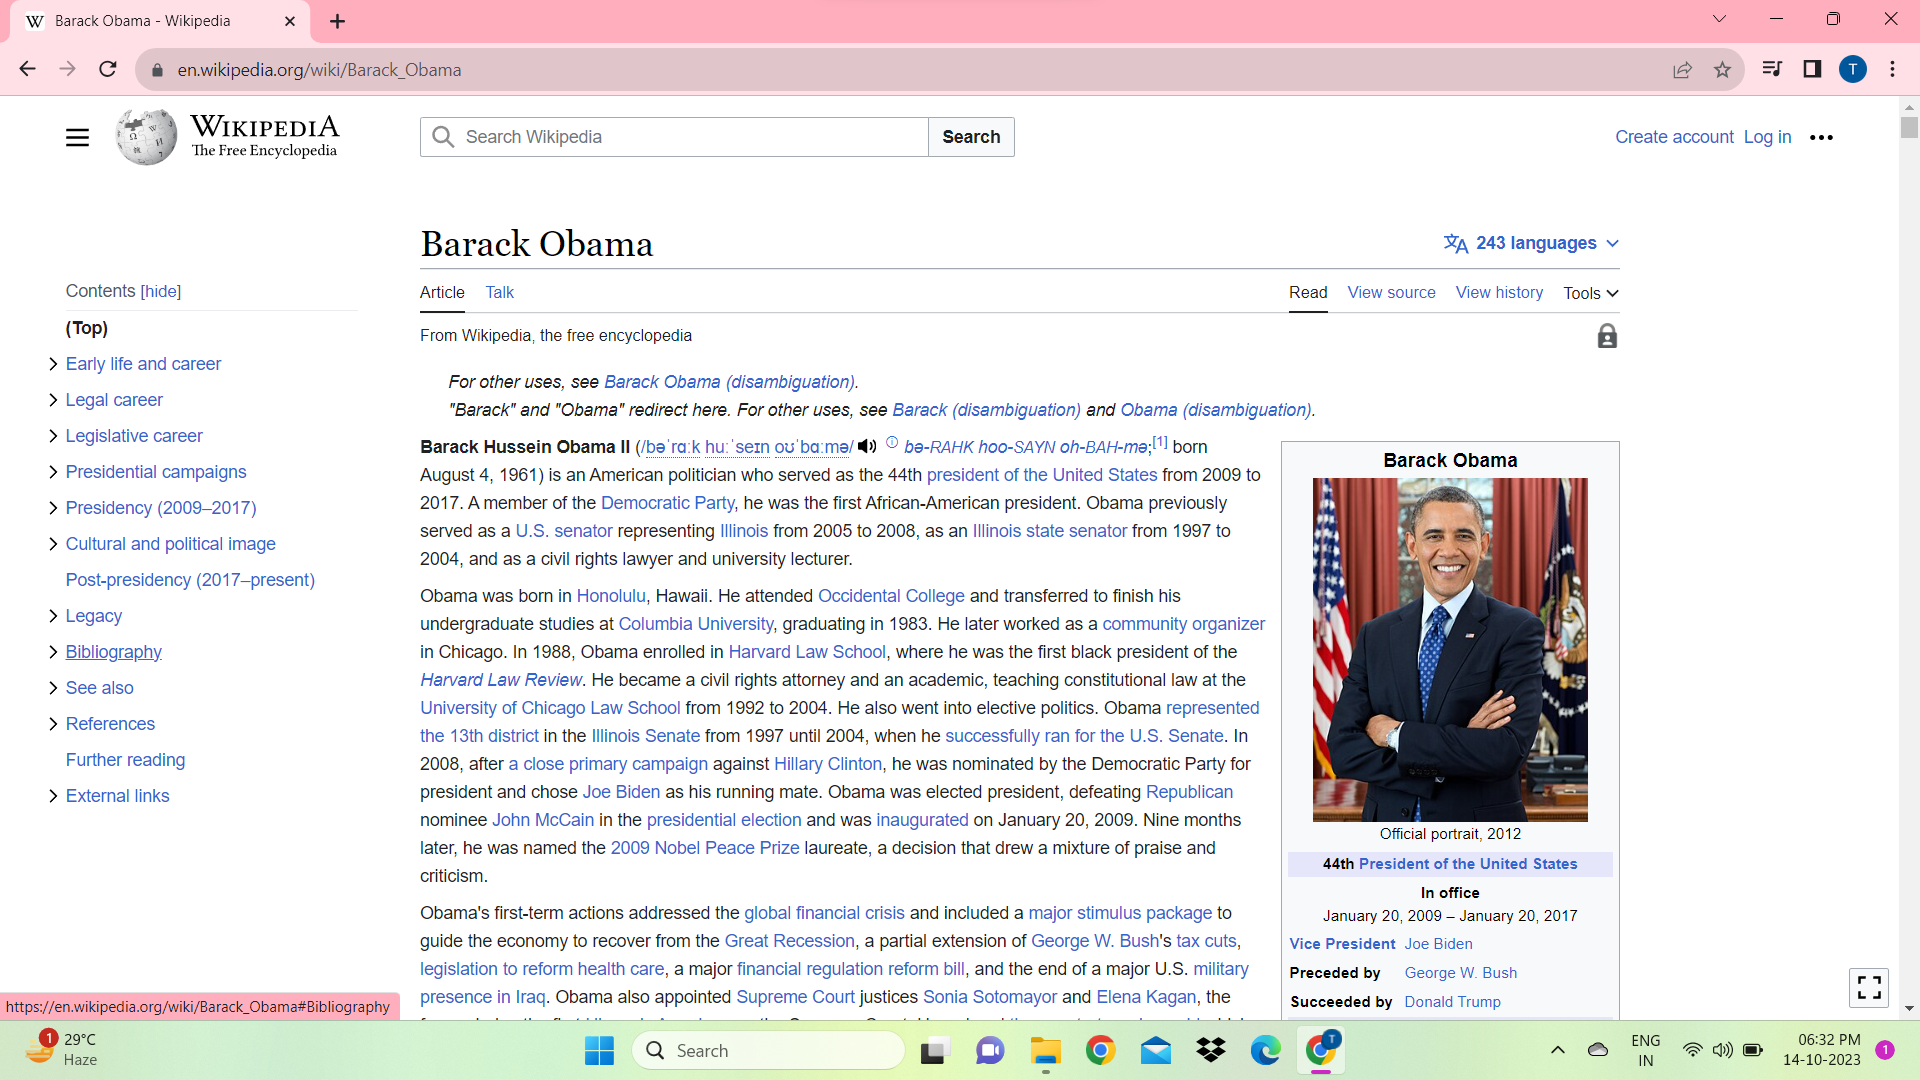Image: (1292, 464, 1614, 827)
Paragraph: (410, 583, 1269, 889), (406, 427, 1265, 572), (421, 902, 1253, 1018), (440, 363, 1319, 430), (404, 216, 678, 274), (65, 563, 340, 600), (411, 315, 699, 349), (51, 265, 207, 311), (69, 458, 264, 492), (67, 525, 274, 556), (58, 492, 268, 522), (58, 352, 272, 377), (62, 421, 220, 451), (67, 740, 190, 773), (58, 774, 177, 807), (1377, 444, 1520, 471), (67, 630, 164, 669), (1346, 274, 1431, 311), (1456, 272, 1544, 306), (61, 388, 169, 411), (58, 669, 138, 695), (67, 709, 160, 732), (58, 315, 133, 339), (1279, 278, 1336, 299), (61, 611, 140, 625), (475, 281, 518, 306), (1560, 274, 1597, 299), (411, 289, 472, 302)
